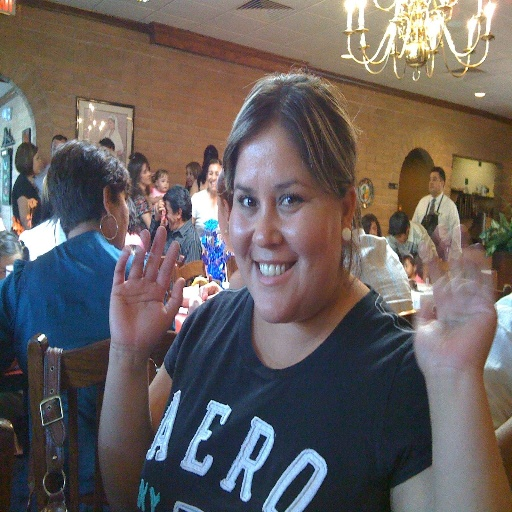hand: (412, 225, 497, 375), (117, 225, 183, 340), (197, 280, 225, 300), (185, 295, 203, 317), (155, 200, 164, 220)
